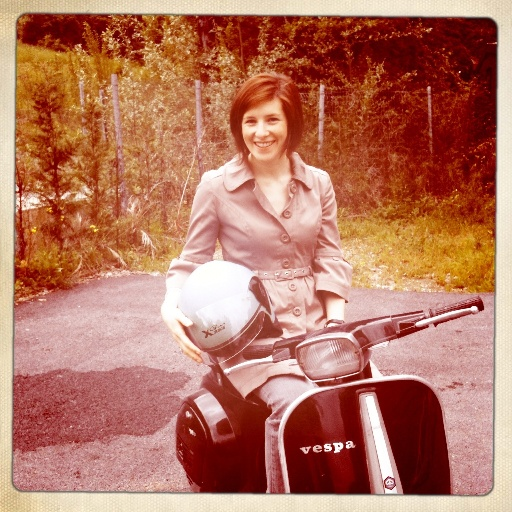hand: (160, 304, 200, 362)
